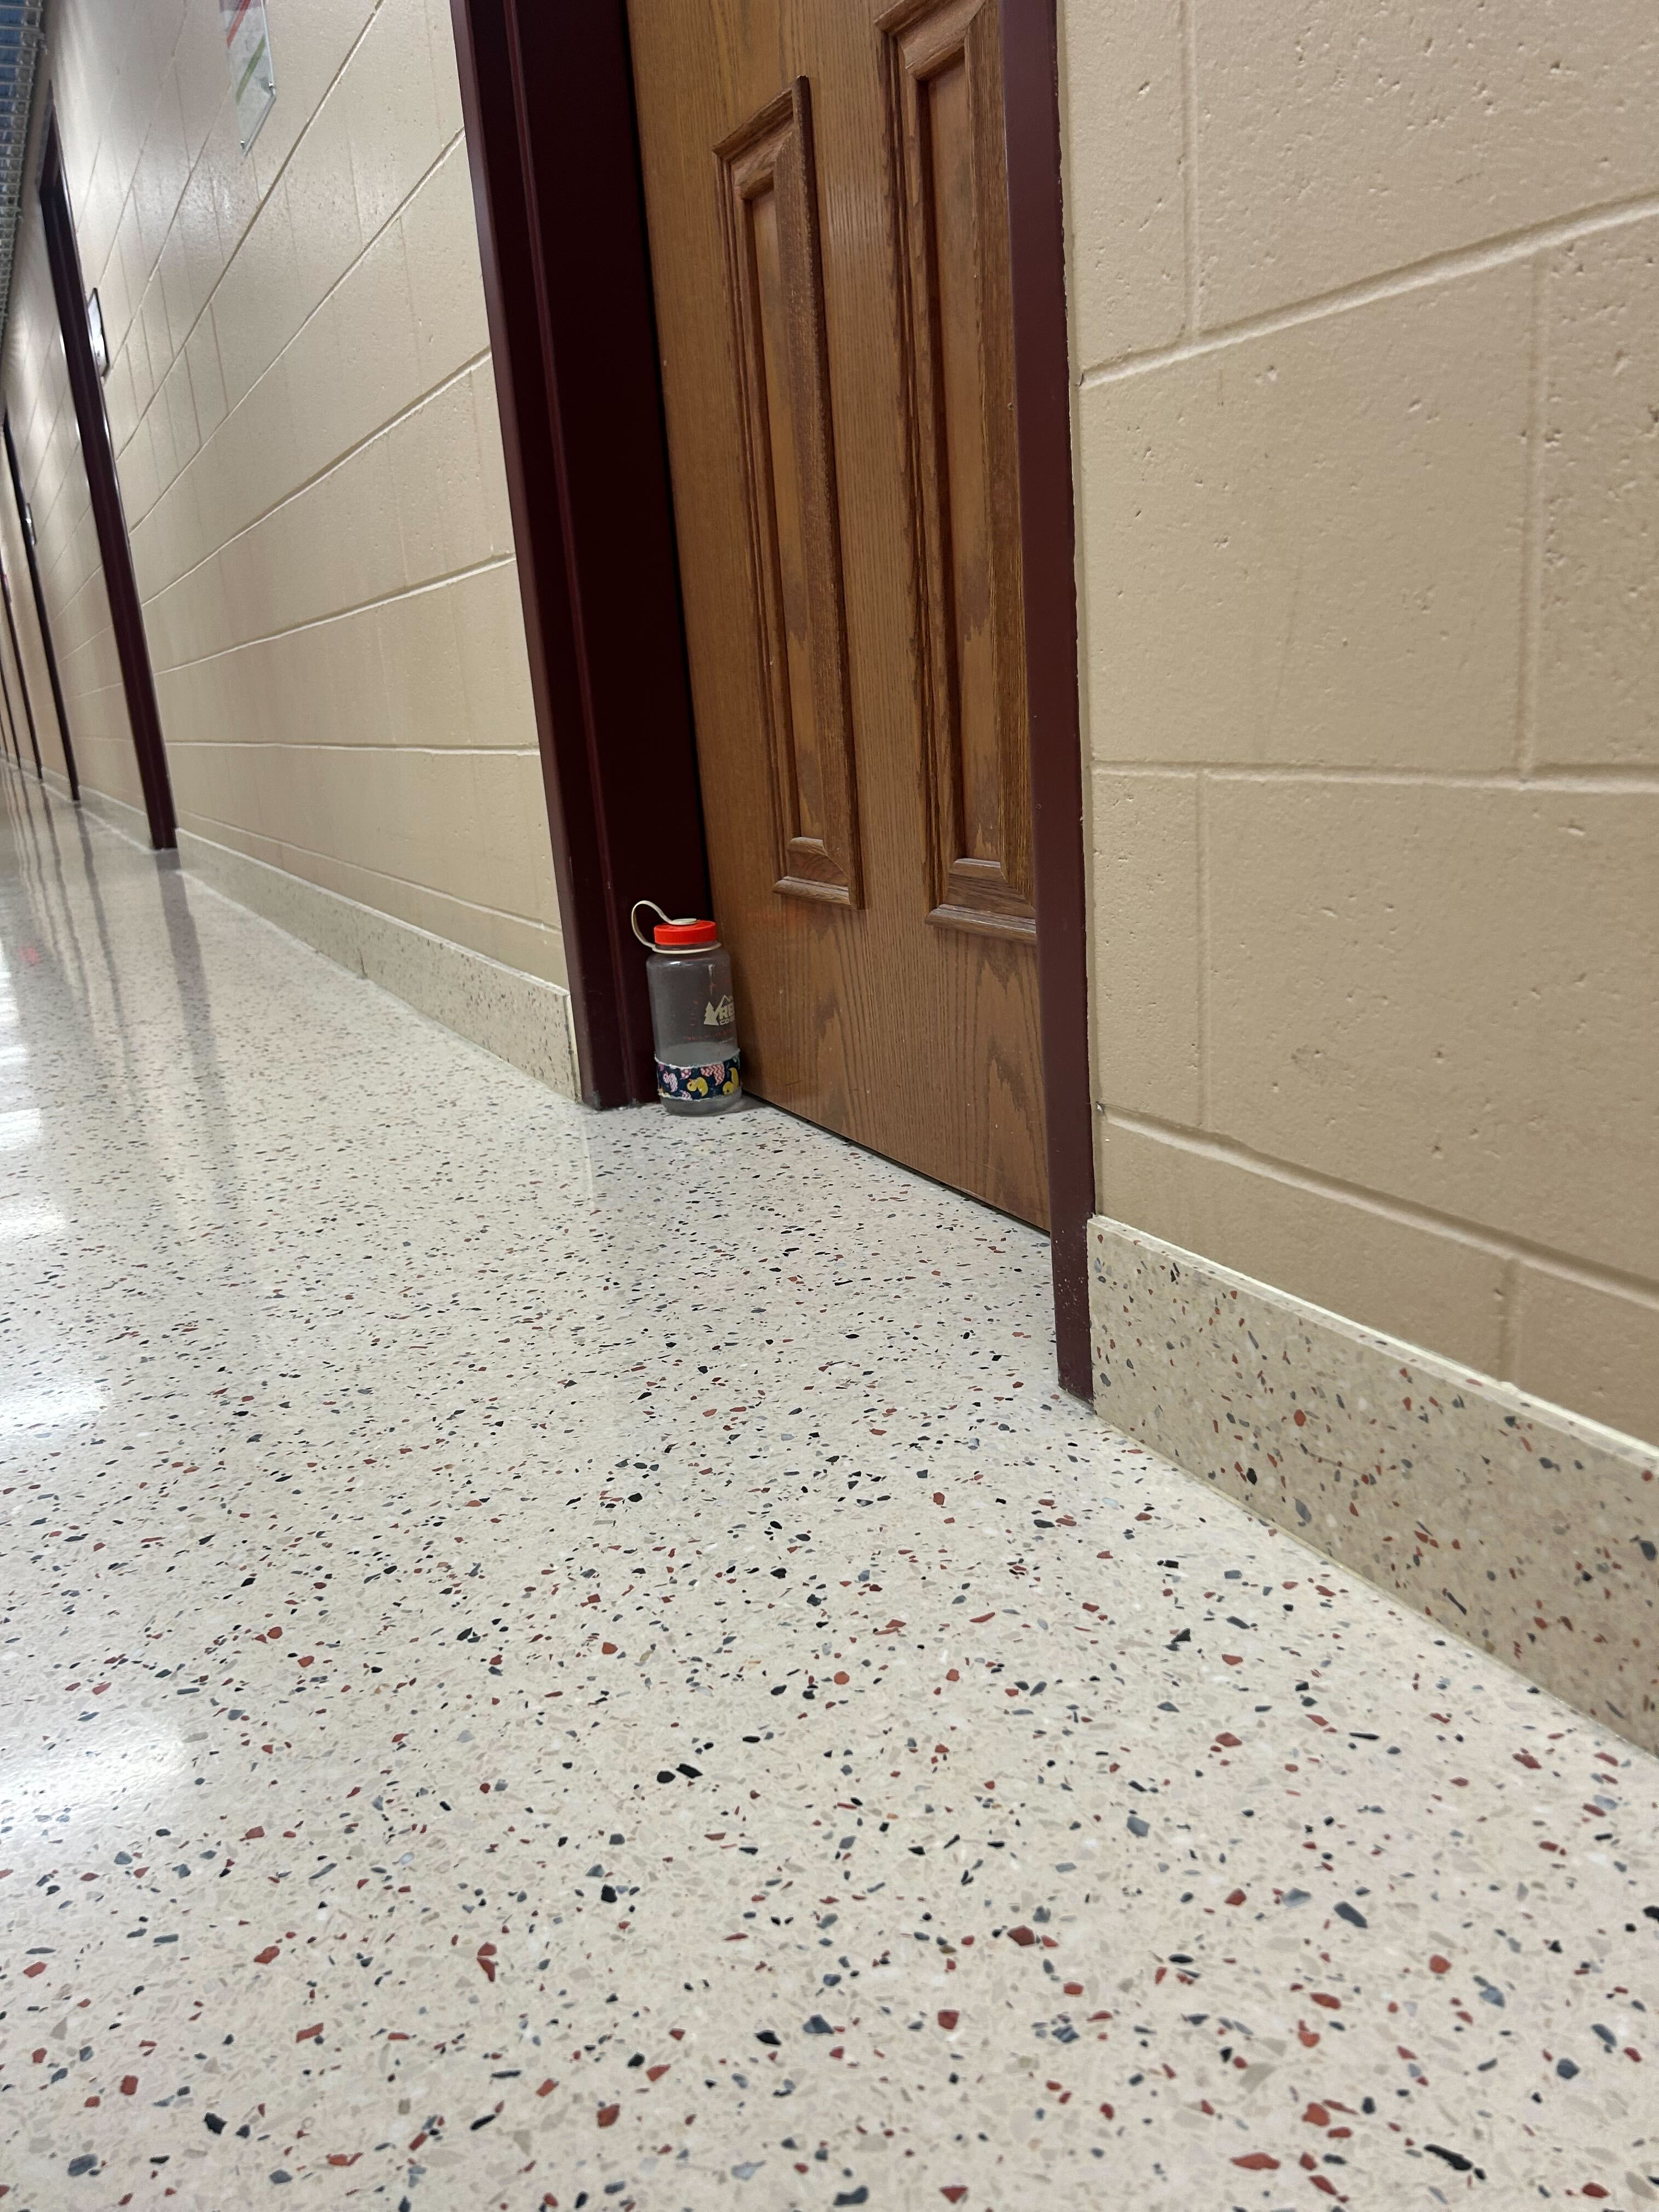bottle: (627, 887, 744, 1122)
